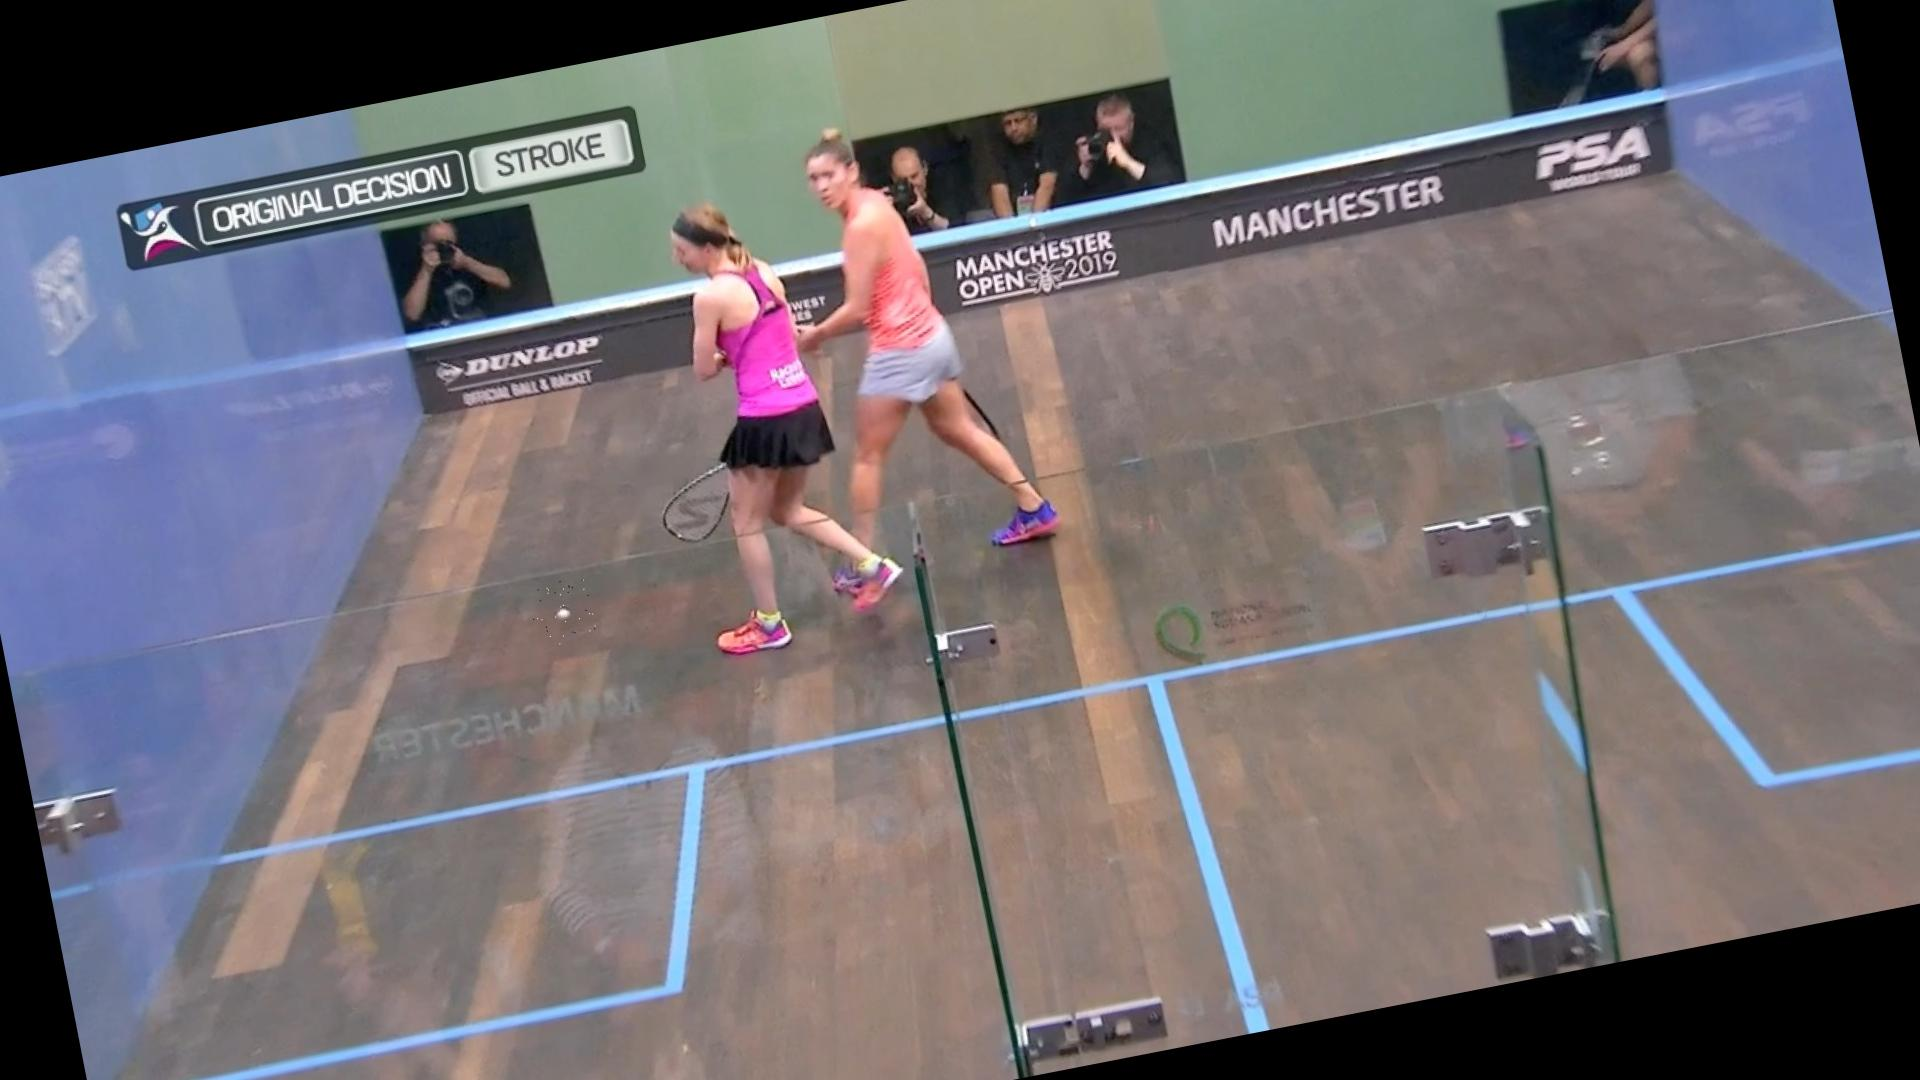Squash-Ball: (527, 575, 599, 651)
